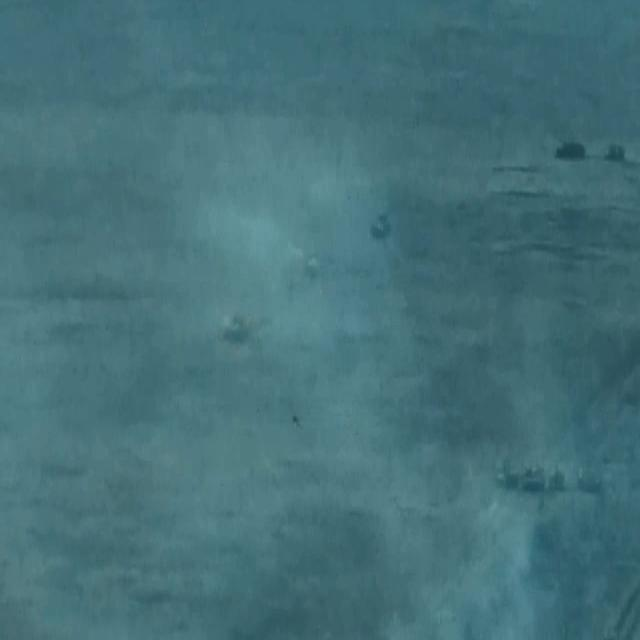AIFV: (225, 315, 250, 342), (371, 215, 392, 242)
APC: (498, 463, 519, 492), (579, 467, 602, 492), (551, 468, 568, 493)
Destroyed: (557, 142, 588, 161), (608, 144, 625, 162)
MBT: (520, 464, 546, 493)
